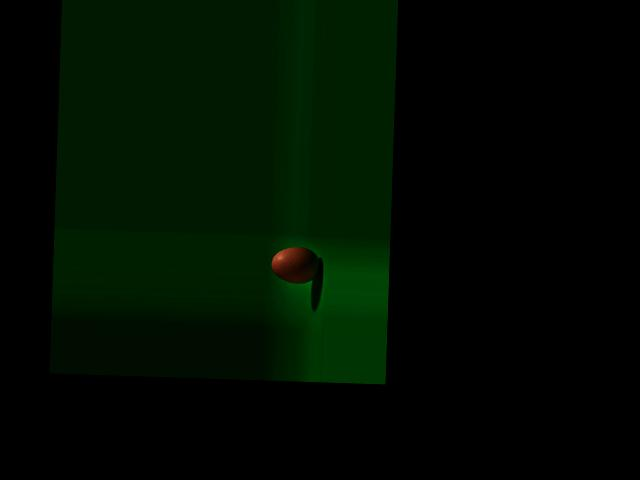egg: (271, 246, 321, 284)
